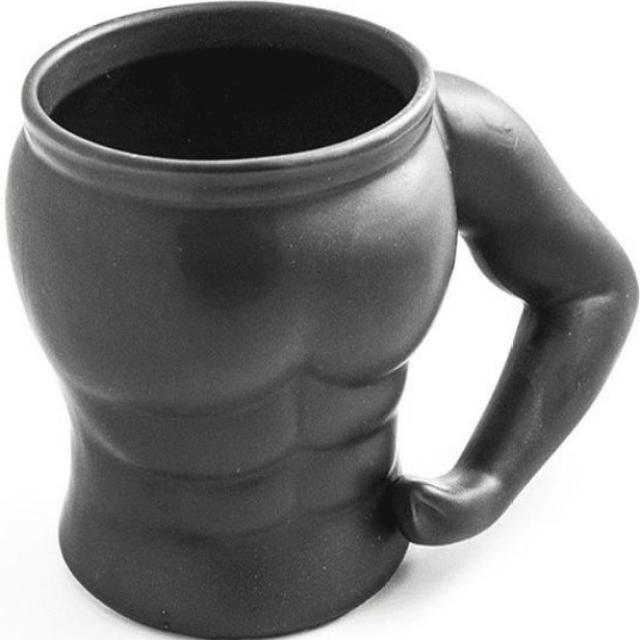cup: (5, 14, 636, 630)
